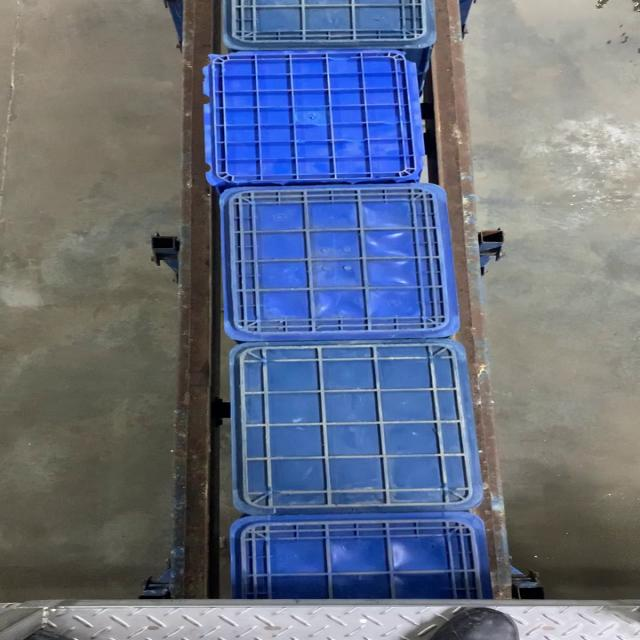Box: (224, 342, 488, 518), (212, 188, 458, 342)
Damaged_box: (197, 47, 431, 188)
